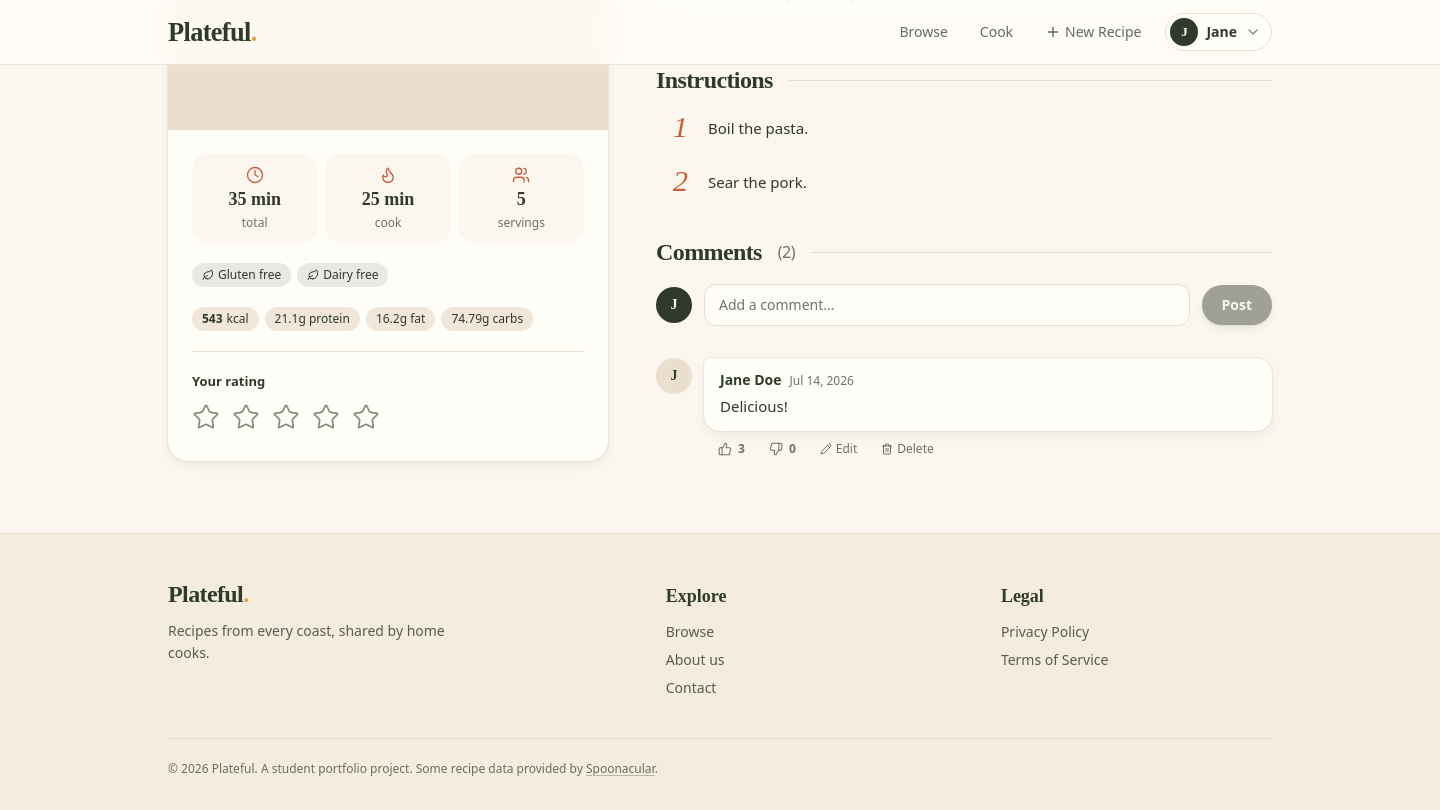
Test: a failed reaction shows the server error in a toast
This screenshot has width=1440, height=810.
(page scrolled)
Click the button named "like comment".
click(731, 448)  # box [708,436,755,460]
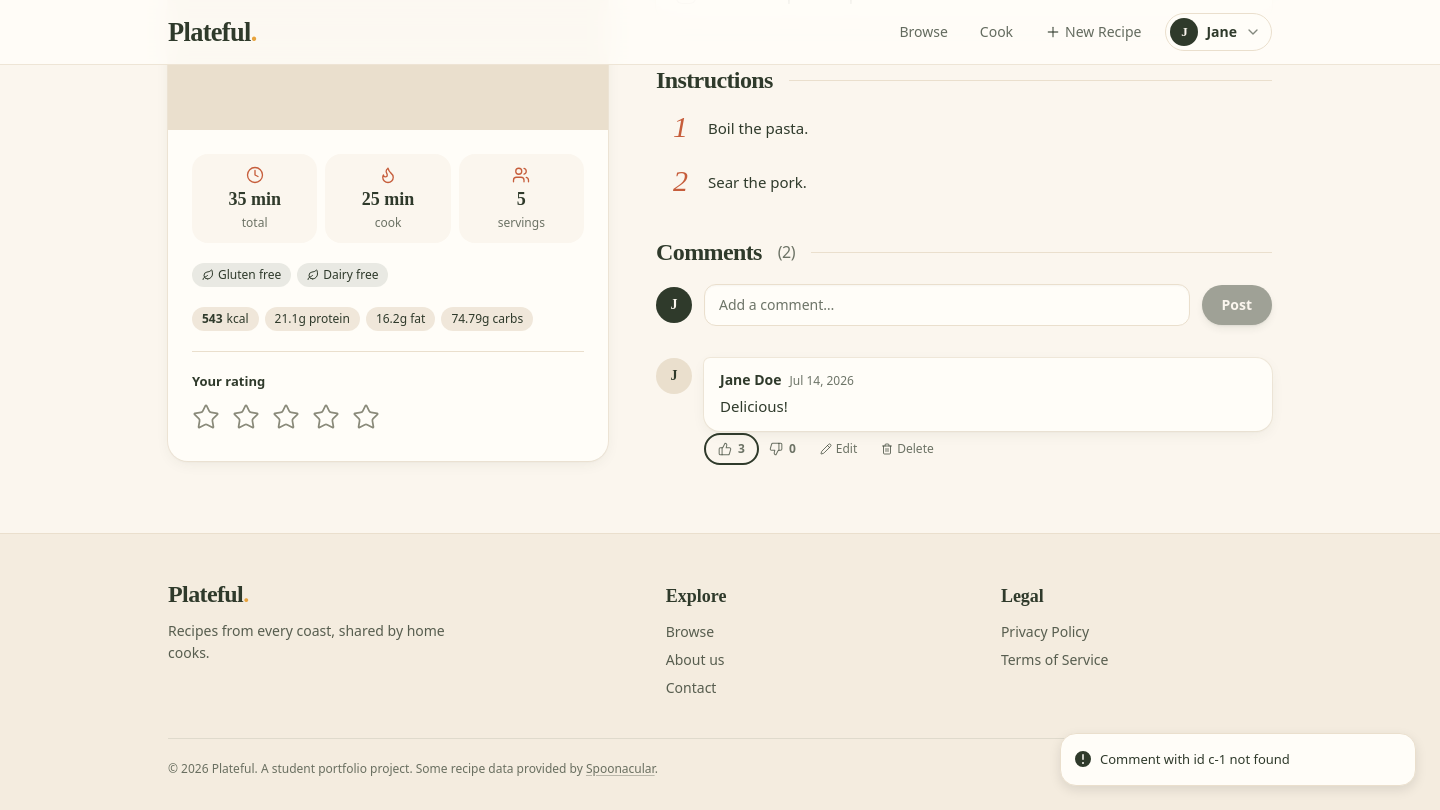
Now the text "Comment with id c-1 not found" is shown, box [1100,750,1290,769]
